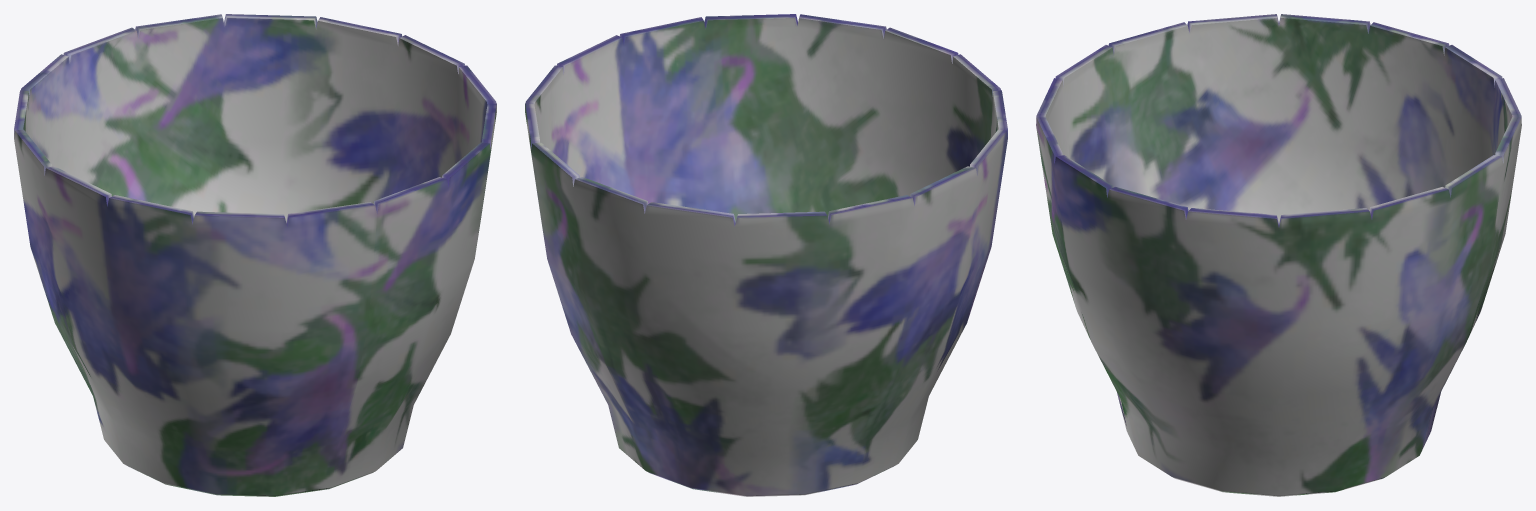
Rendered from SM_Teaset_Cup.glb.
3 views of the same model, side by side, from view 1: azimuth 30°, elevation 25°; view 2: azimuth 150°, elevation 25°; view 3: azimuth 270°, elevation 25° (orthographic).
Visible parts, largest first — view 1: SM_Teaset_Cup; view 2: SM_Teaset_Cup; view 3: SM_Teaset_Cup.
Boxes of the visible parts, <box> form: SM_Teaset_Cup: <box>14,14,496,496</box>; SM_Teaset_Cup: <box>525,14,1007,496</box>; SM_Teaset_Cup: <box>1036,14,1521,496</box>.
Bounding box in the file's own units: 0.0792 × 0.0573 × 0.0792.
1 material, 1 textured.
